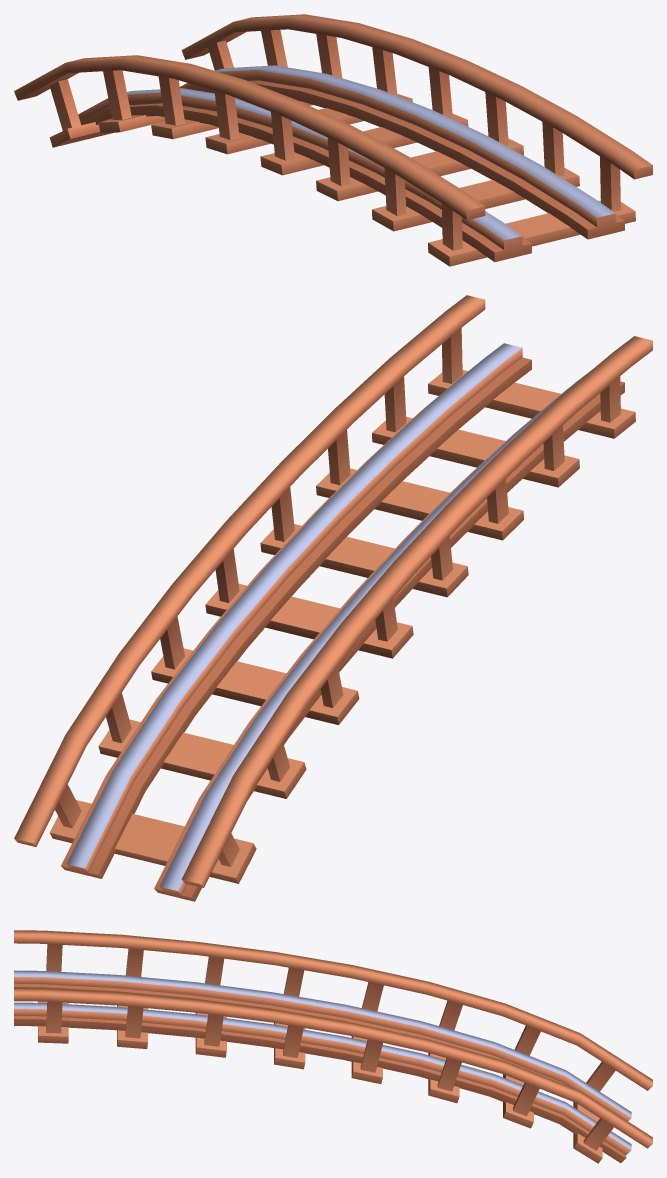
Rendered from coaster_wood_straight_hill_end.glb.
3 renders of one model, top to bottom at view 1: azimuth 30°, elevation 25°; view 2: azimuth 150°, elevation 25°; view 3: azimuth 270°, elevation 25°, orthographic. The views are drawn at different scales.
Parts seen in each view (by area): view 1: coaster-wood-straight-hill-end; view 2: coaster-wood-straight-hill-end; view 3: coaster-wood-straight-hill-end.
Boxes of the visible parts, box(x1,y1,x2,y2) form: coaster-wood-straight-hill-end: box(14, 14, 652, 266); coaster-wood-straight-hill-end: box(14, 295, 652, 901); coaster-wood-straight-hill-end: box(14, 930, 652, 1163).
Size of the model in its own units: 1 by 1.3 by 4.21.
Materials: 1 (1 with a texture image).
